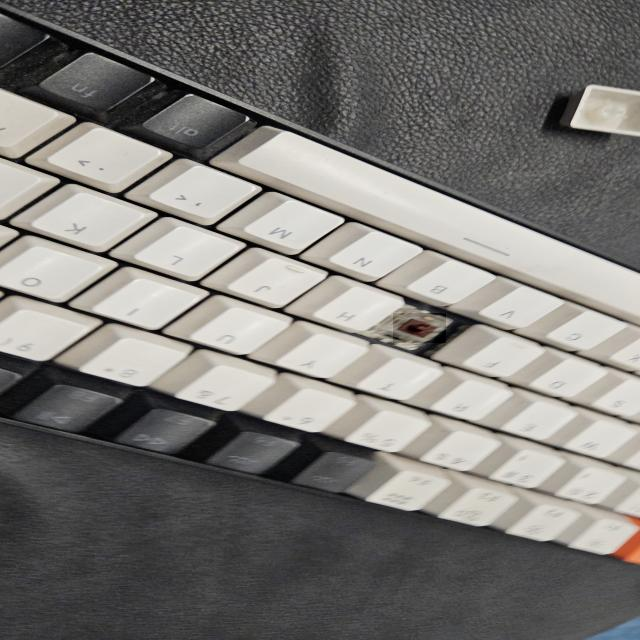C: (393, 313, 446, 343)
